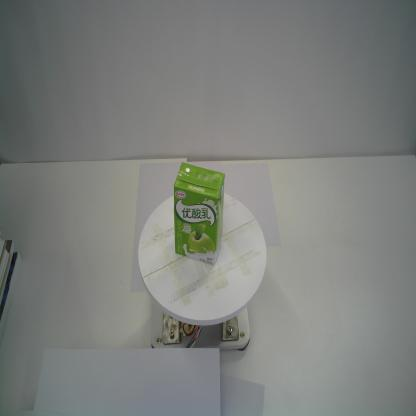Milk: (172, 160, 227, 267)
